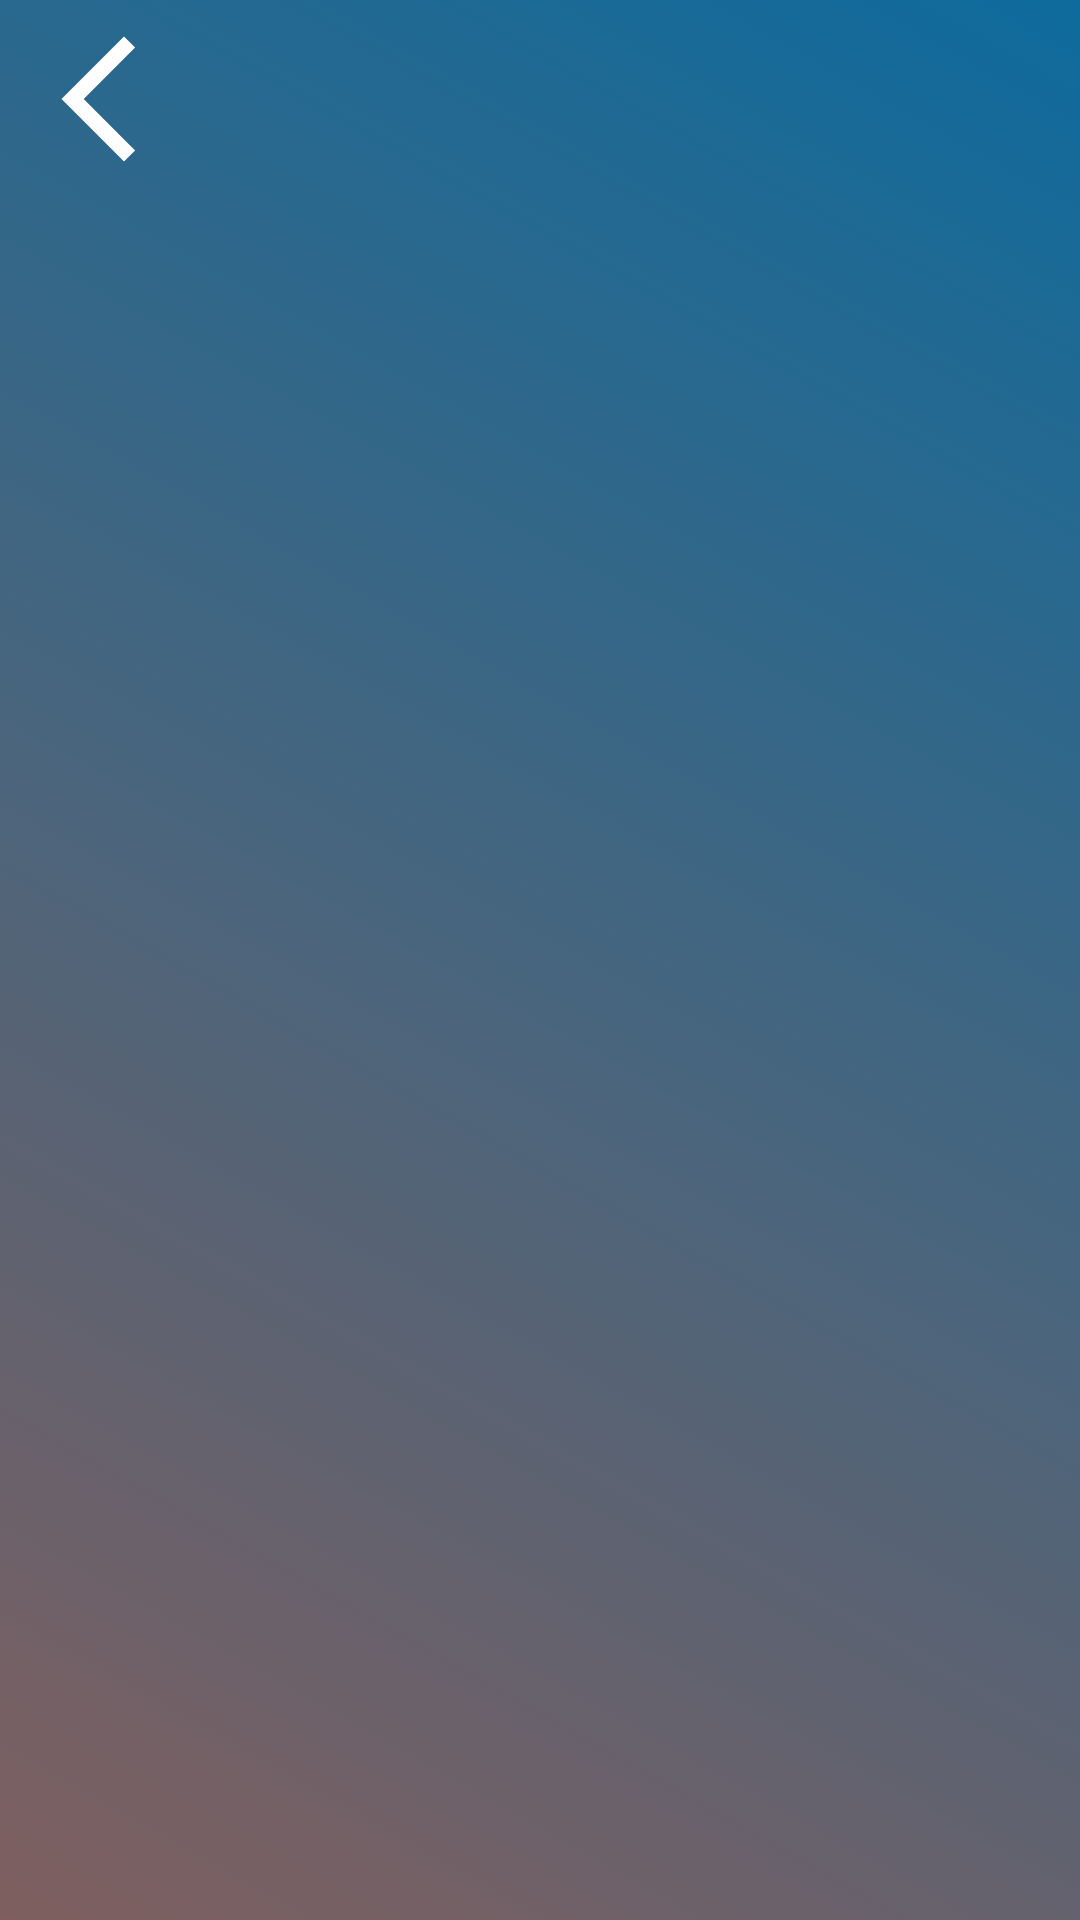

Locate icon controls on the screen. Image size 1080*1920, boxes as (x1, y1, x2, y2).
back: (61, 37, 135, 162)
